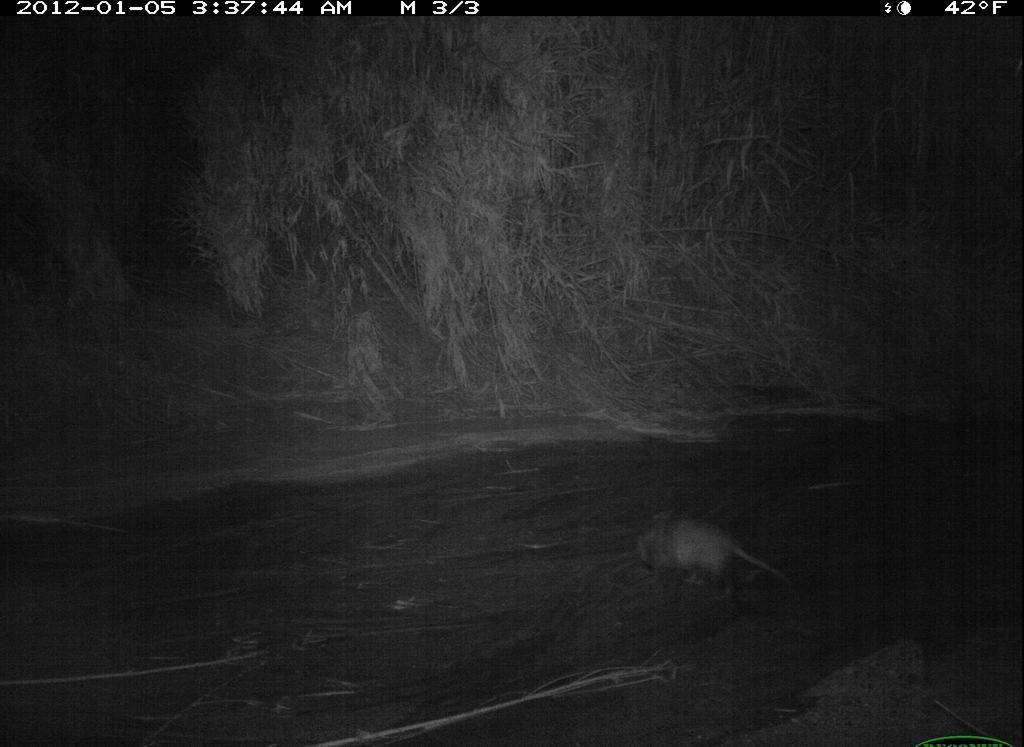opossum: (610, 500, 801, 610)
